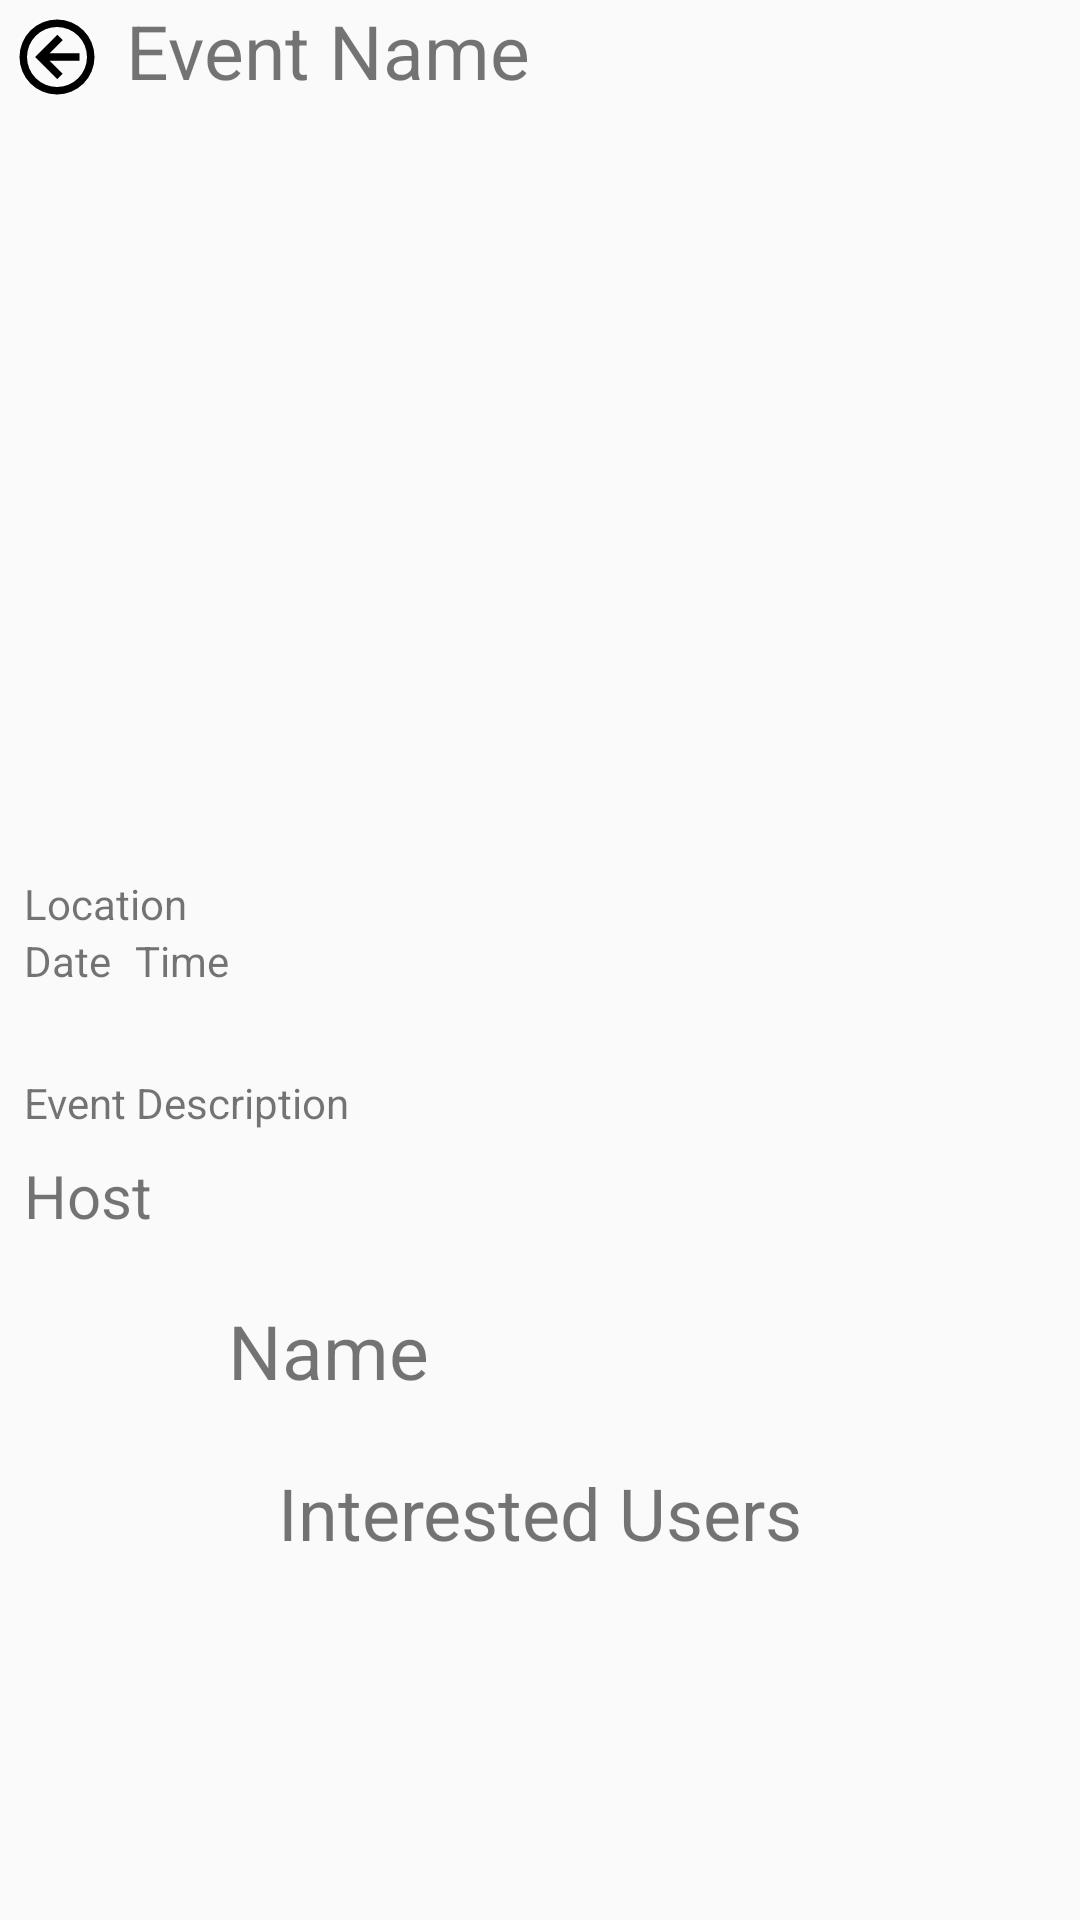

Locate icon controls on the screen. Image size 1080 × 1920, boxes as BBox(x1, y1, x2, y2).
arrow left circle: BBox(19, 19, 95, 95)
